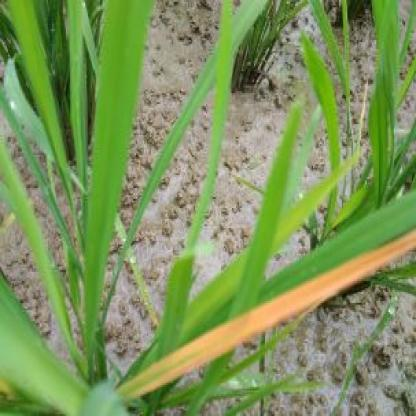Tungro: (137, 221, 416, 402)
